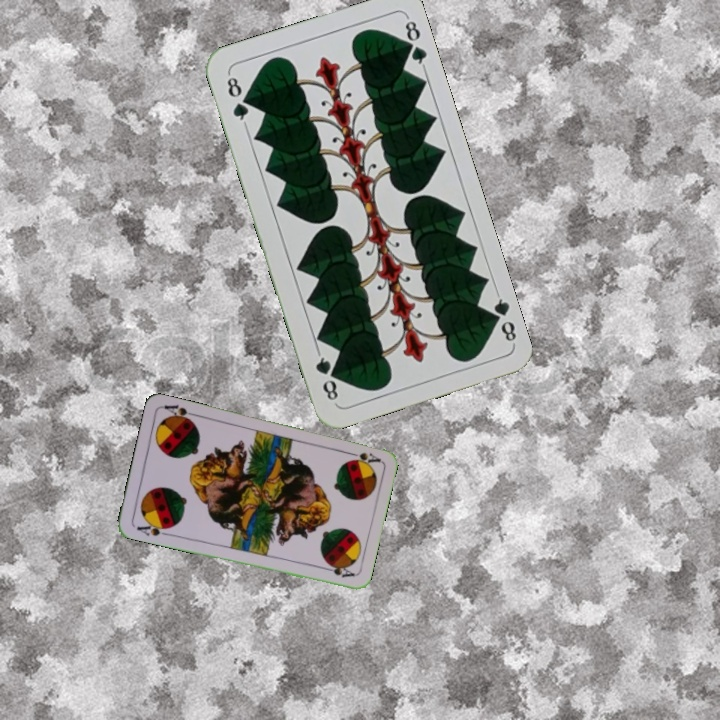G8: (484, 289, 519, 346), (222, 70, 251, 128)
SA: (133, 517, 173, 538), (342, 448, 383, 467)
